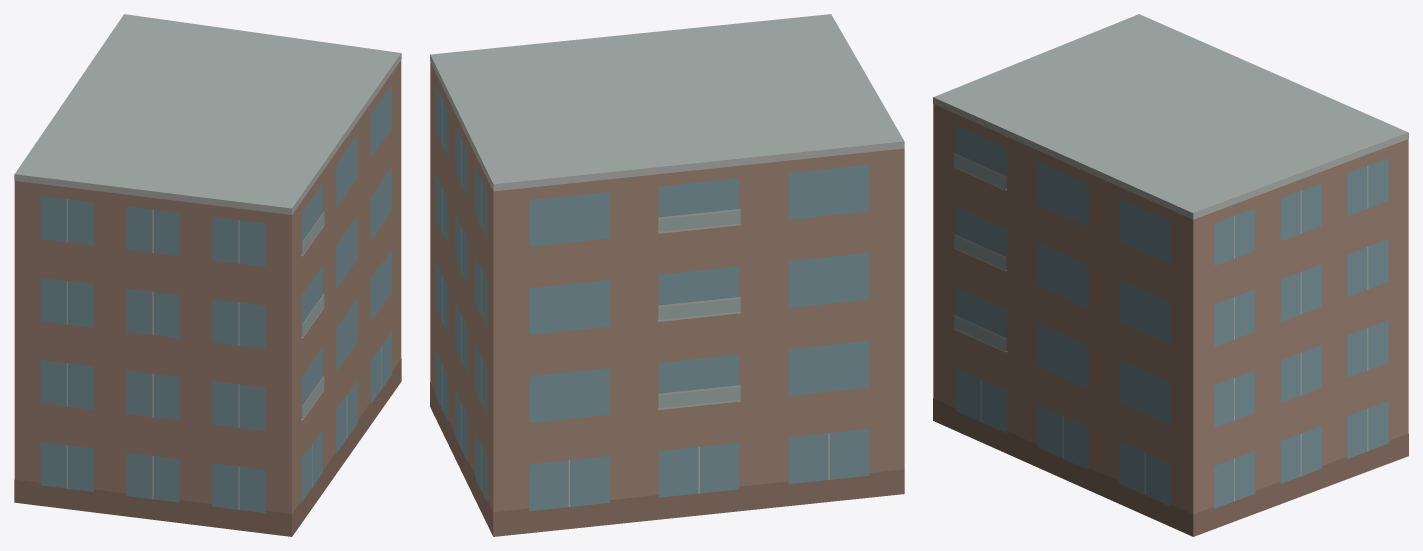
The model's file is survey-upis-32564010.glb.
3 views of the same model, side by side, from view 1: azimuth 30°, elevation 25°; view 2: azimuth 150°, elevation 25°; view 3: azimuth 270°, elevation 25° (orthographic). The views are drawn at different scales.
Parts seen in each view (by area): view 1: survey-upis-32564010.tmp; view 2: survey-upis-32564010.tmp; view 3: survey-upis-32564010.tmp.
Part boxes in pixels (x1,y1,x2,y2): survey-upis-32564010.tmp: (14,14,401,536); survey-upis-32564010.tmp: (430,14,904,536); survey-upis-32564010.tmp: (933,14,1408,536).
Size of the model in its own units: 16.12 by 12.2 by 16.25.
